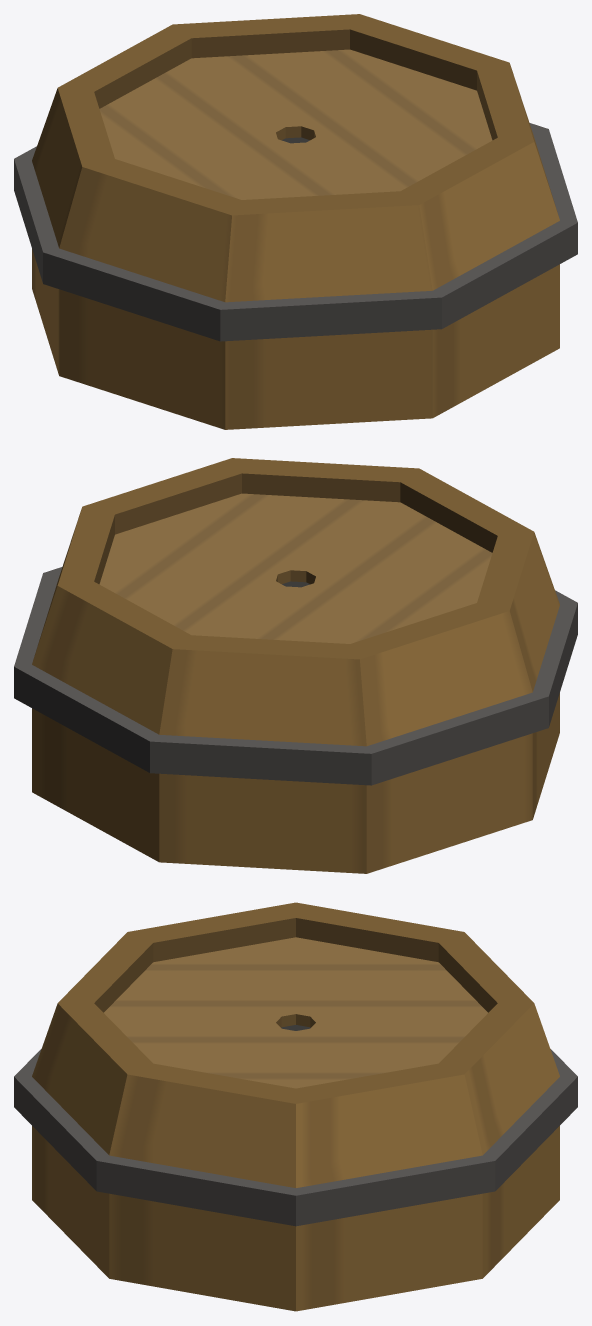
File: SM_Prop_Table_03.glb
3 renders of one model, top to bottom at view 1: azimuth 30°, elevation 25°; view 2: azimuth 150°, elevation 25°; view 3: azimuth 270°, elevation 25°, orthographic. The views are drawn at different scales.
Visible parts, largest first — view 1: SM_Prop_Table_03; view 2: SM_Prop_Table_03; view 3: SM_Prop_Table_03.
Boxes of the visible parts, <box> form: SM_Prop_Table_03: <box>14,14,577,429</box>; SM_Prop_Table_03: <box>14,458,577,873</box>; SM_Prop_Table_03: <box>14,902,577,1311</box>.
Bounding box in the file's own units: 0.0384 × 0.0148 × 0.0384.
1 material, 1 textured.
